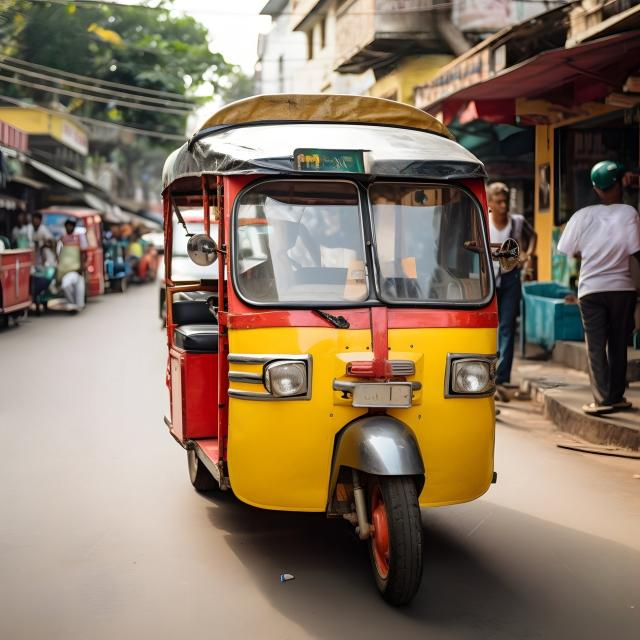autorickshaw: (162, 95, 512, 604)
